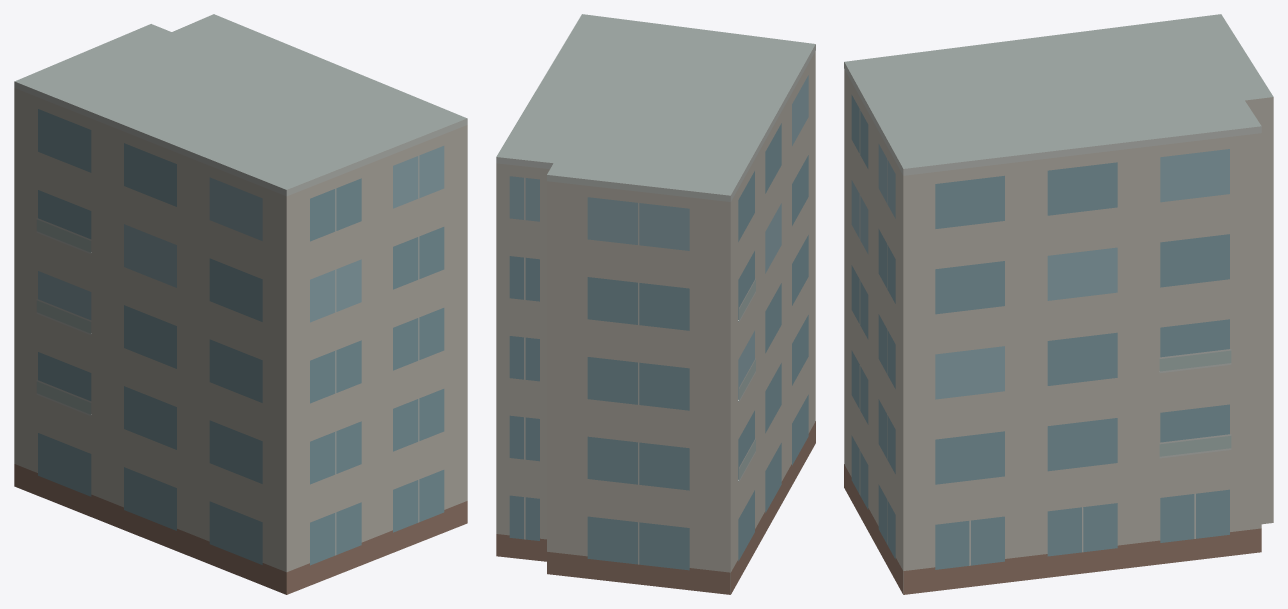
The model's file is survey-upis-32562128.glb.
3 renders of one model, left to right at view 1: azimuth 30°, elevation 25°; view 2: azimuth 150°, elevation 25°; view 3: azimuth 270°, elevation 25°, orthographic. The views are drawn at different scales.
Visible parts, largest first — view 1: survey-upis-32562128.tmp; view 2: survey-upis-32562128.tmp; view 3: survey-upis-32562128.tmp.
Part boxes in pixels (bbox=[...]): survey-upis-32562128.tmp: bbox=[14, 14, 467, 594]; survey-upis-32562128.tmp: bbox=[496, 14, 815, 594]; survey-upis-32562128.tmp: bbox=[844, 14, 1273, 594].
Bounding box in the file's own units: 11.91 × 15.25 × 13.95.
